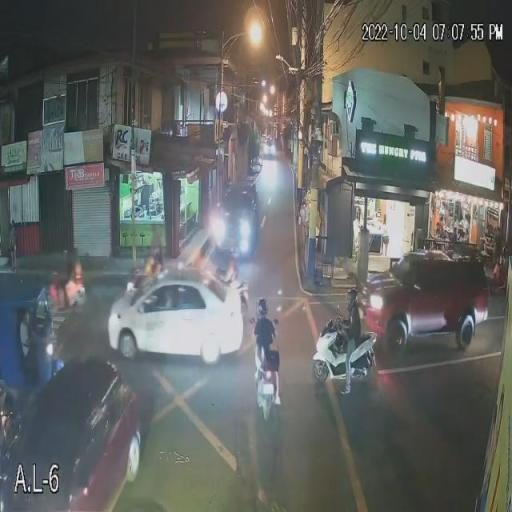helmet: (220, 241, 239, 266), (346, 288, 361, 312), (260, 306, 273, 329)
motorcycle: (310, 326, 384, 383), (36, 270, 90, 318), (255, 356, 279, 436)
rider: (344, 289, 360, 390), (257, 307, 275, 370), (219, 250, 243, 296)
